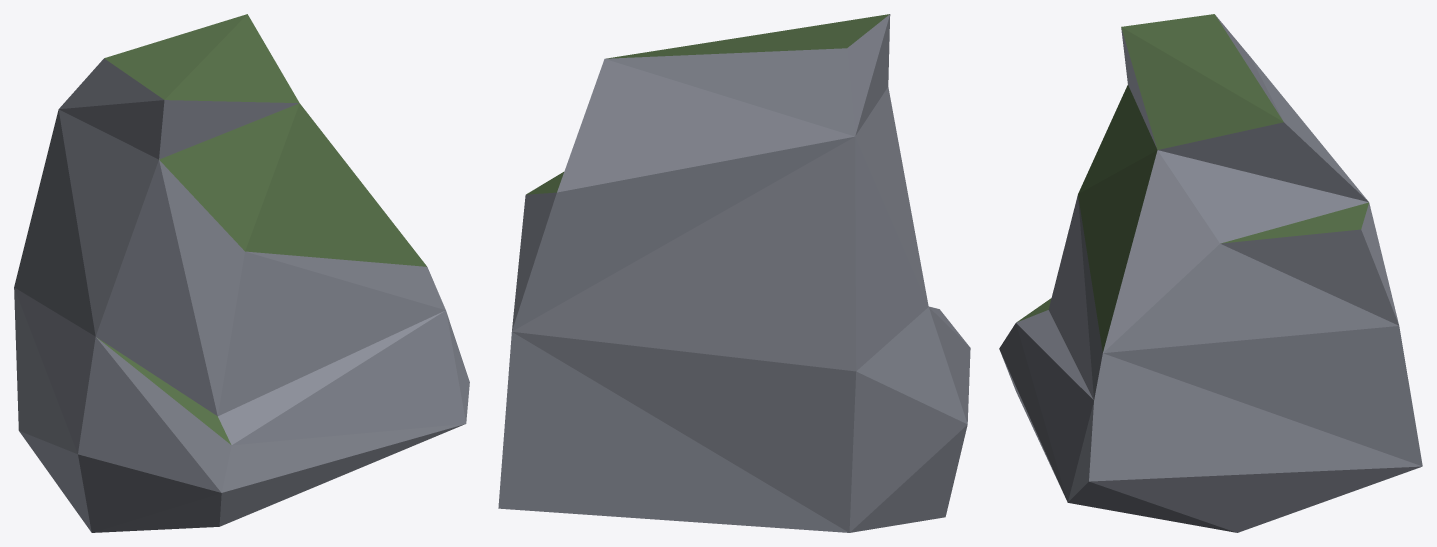
File: Rock_Moss_2.lod1.glb
3 views of the same model, side by side, from view 1: azimuth 30°, elevation 25°; view 2: azimuth 150°, elevation 25°; view 3: azimuth 270°, elevation 25° (orthographic). The views are drawn at different scales.
Visible parts, largest first — view 1: Rock_Moss_2; view 2: Rock_Moss_2; view 3: Rock_Moss_2.
Part boxes in pixels (bbox=[...]): Rock_Moss_2: bbox=[14, 14, 469, 532]; Rock_Moss_2: bbox=[498, 14, 970, 532]; Rock_Moss_2: bbox=[999, 14, 1422, 532].
Bounding box in the file's own units: 0.61 × 0.6918 × 0.6461.
